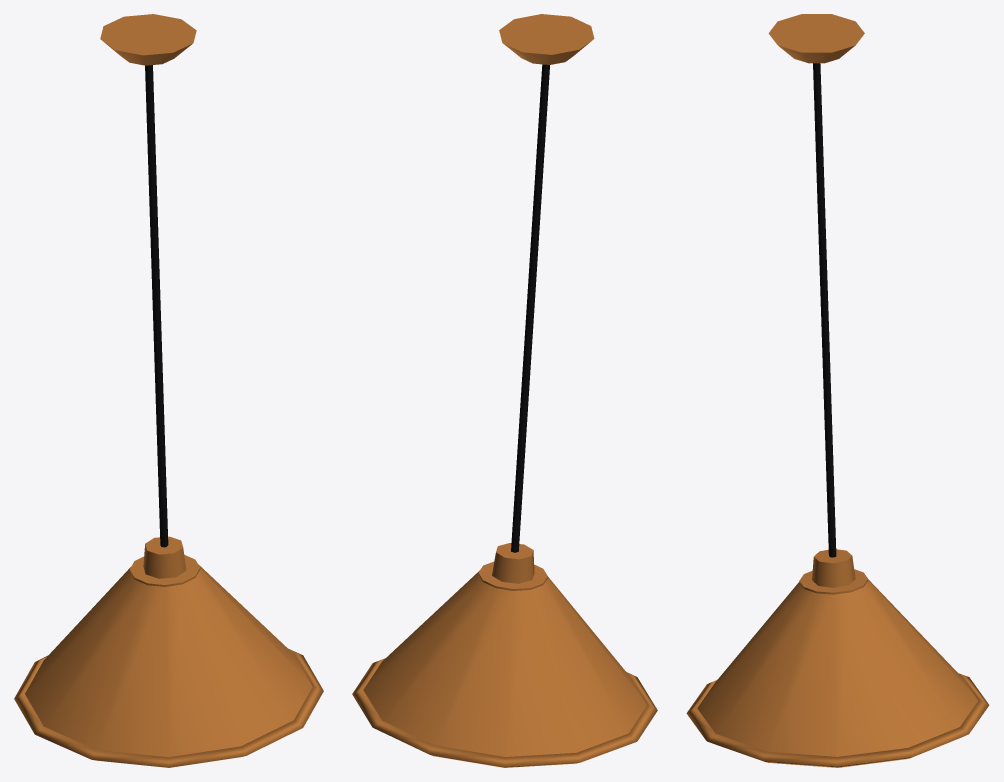
File: Hanglamp.glb
The picture shows the model from 3 angles, left to right: view 1: azimuth 30°, elevation 25°; view 2: azimuth 150°, elevation 25°; view 3: azimuth 270°, elevation 25°; orthographic projection. The views are drawn at different scales.
Parts seen in each view (by area): view 1: Shade, Cord, Canopy; view 2: Shade, Cord, Canopy; view 3: Shade, Cord, Canopy.
Part boxes in pixels (x1,y1,x2,y2): Shade: (14,536,323,767); Cord: (145,65,168,547); Canopy: (100,14,196,65); Shade: (352,543,657,767); Cord: (511,64,549,552); Canopy: (499,14,594,64); Shade: (686,549,989,767); Cord: (813,63,836,557); Canopy: (768,14,864,63).
Size of the model in its own units: 0.4395 by 1.08 by 0.4398.
